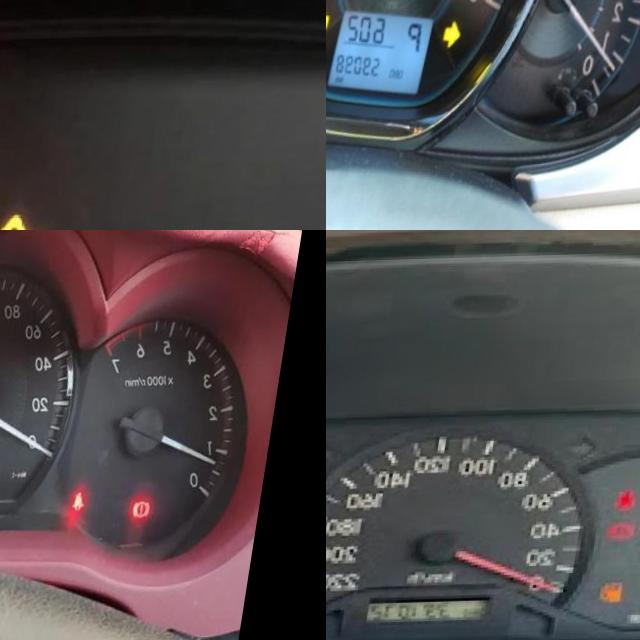Seat Belt: (87, 494, 100, 514)
